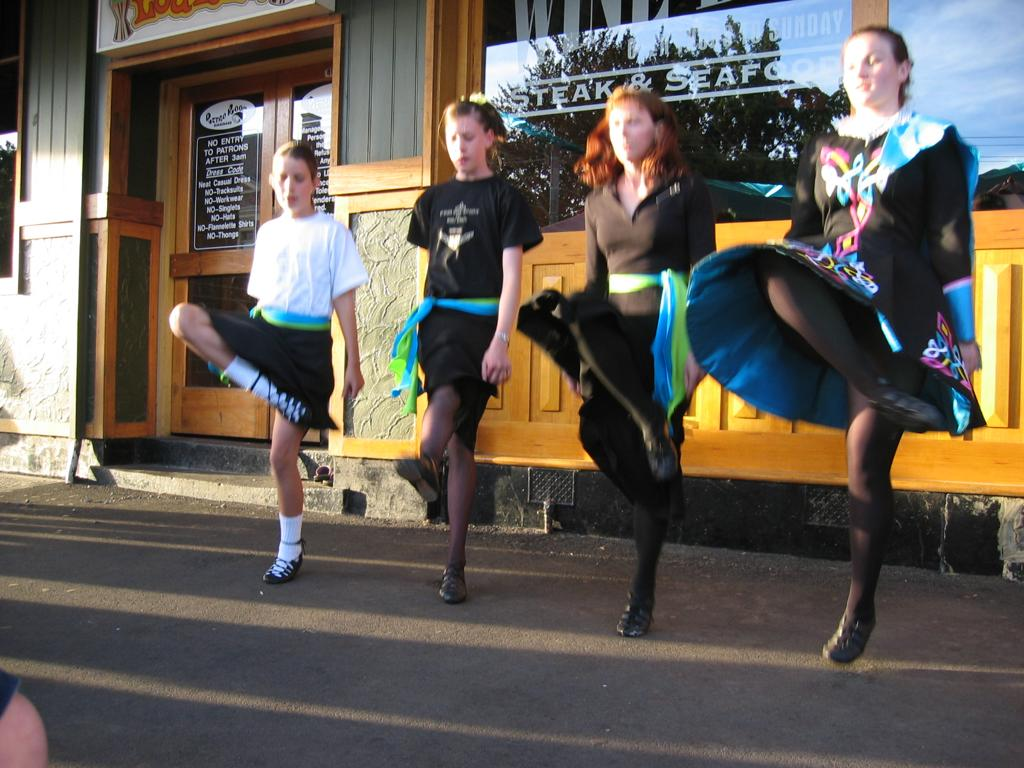face: (843, 37, 897, 104), (607, 100, 655, 159), (444, 115, 485, 170), (273, 156, 312, 208)
